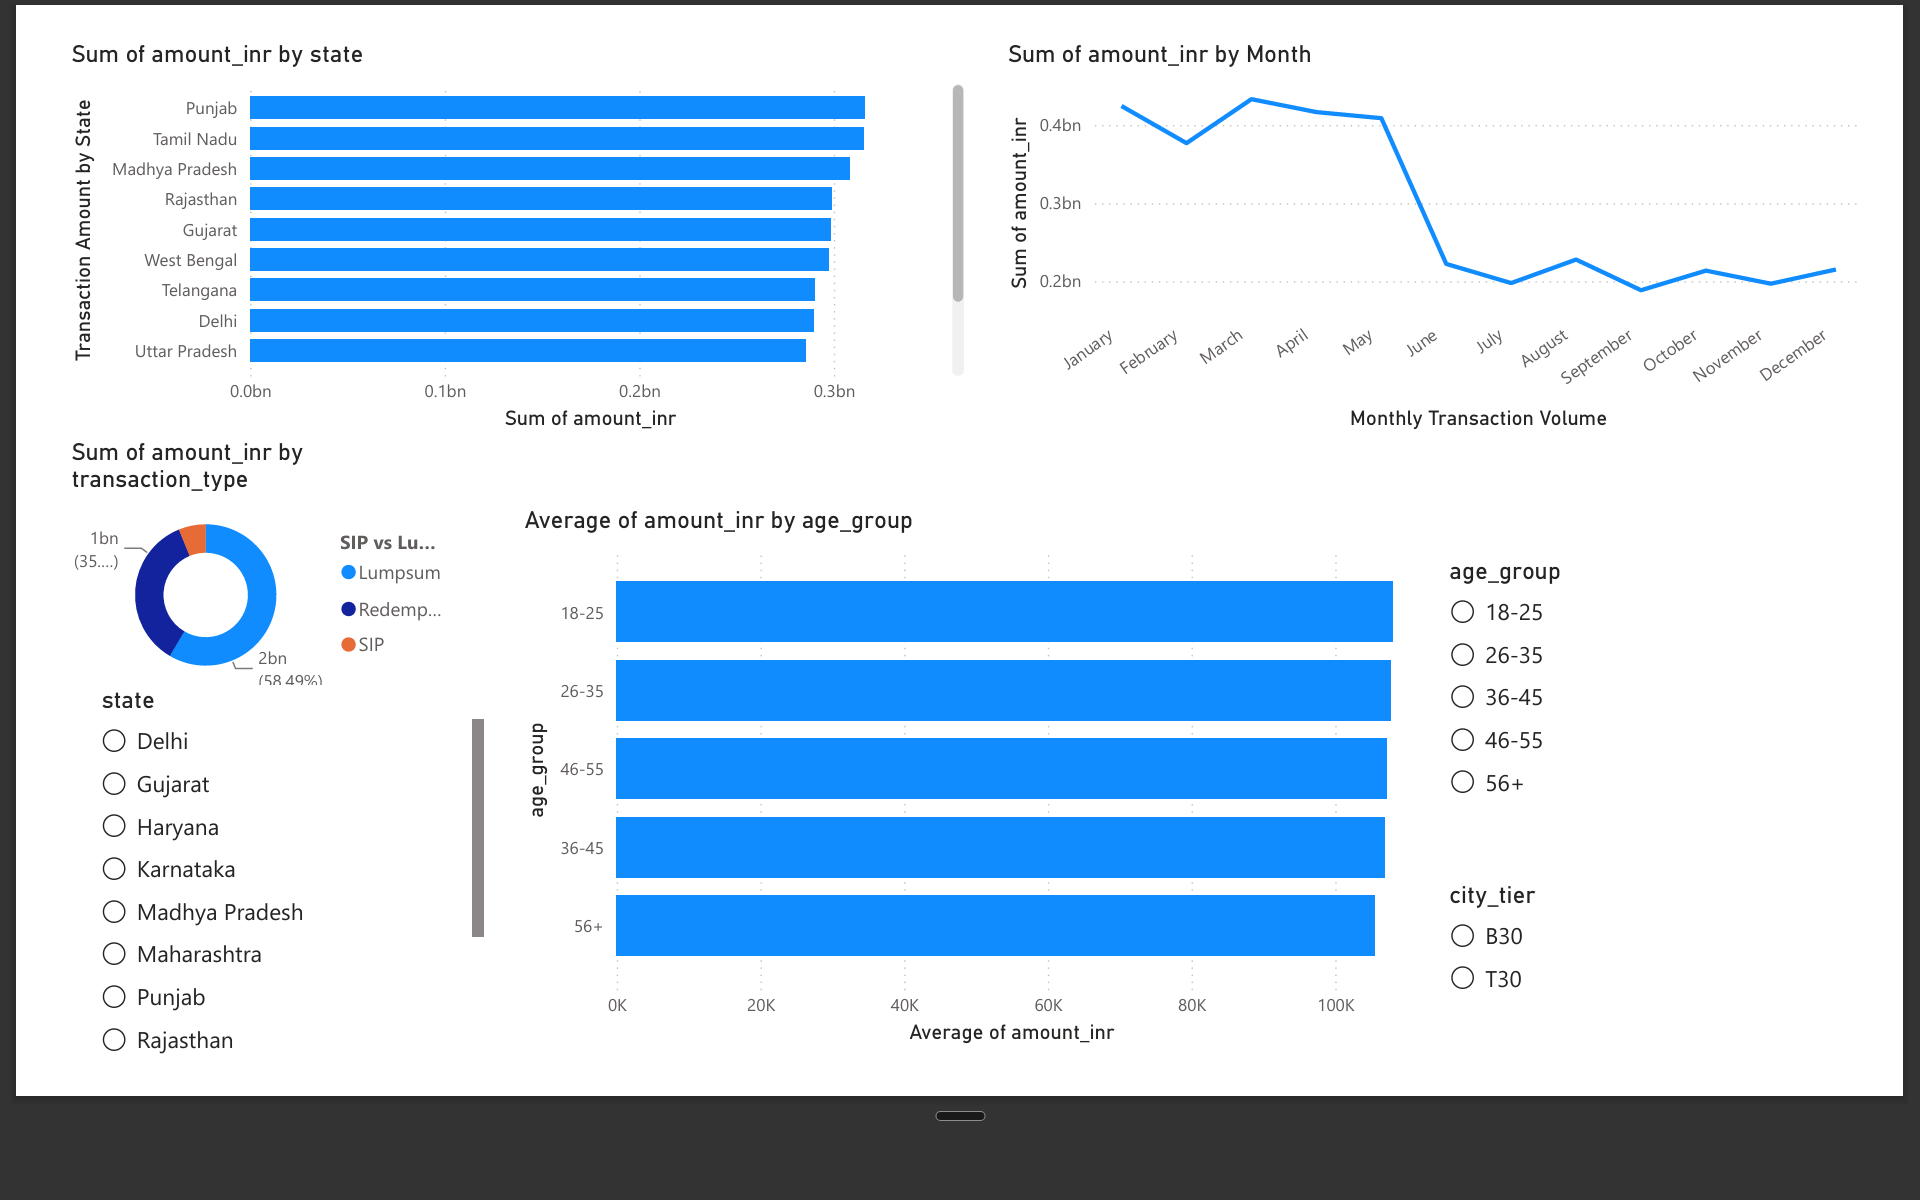

The dashboard page shown, as its layout file describes it:
{"tool":"powerbi","page":{"name":"Investor Analytics","canvas":[1280,720],"ordinal":2},"visuals":[{"type":"barChart","fields":{"Category":["08_investor_transactions.state"],"Y":["Sum(08_investor_transactions.amount_inr)"]},"box":[10.5,0,637.2,280.2],"z":0},{"type":"donutChart","fields":{"Category":["08_investor_transactions.transaction_type"],"Y":["Sum(08_investor_transactions.amount_inr)"]},"box":[10.5,280.2,279.1,184.9],"z":1},{"type":"lineChart","fields":{"Category":["08_investor_transactions.transaction_date.Variation.Date Hierarchy.Month"],"Y":["Sum(08_investor_transactions.amount_inr)"]},"box":[668.6,0,611.6,280.2],"z":3},{"type":"listSlicer","fields":{"Values":["08_investor_transactions.state"]},"box":[31.4,454.7,279.1,265.1],"z":4},{"type":"listSlicer","fields":{"Values":["08_investor_transactions.age_group"]},"box":[980.2,364,300,180.2],"z":5},{"type":"listSlicer","fields":{"Values":["08_investor_transactions.city_tier"]},"box":[980.2,591.9,300,127.9],"z":6},{"type":"clusteredBarChart","fields":{"Category":["08_investor_transactions.age_group"],"Y":["Avg(08_investor_transactions.amount_inr)"]},"box":[329.1,327.9,645.4,383.7],"z":7}]}

Visuals, with their boxes on the page's 1280x720 design canvas (x1, y1, x2, y2). These are canvas units, not pixel positions in the 1920x1200 screenshot, which may show the page scaled, cropped or inside an application window:
barChart - 08_investor_transactions.state x Sum(08_investor_transactions.amount_inr): bbox=[10, 0, 648, 280]
donutChart - 08_investor_transactions.transaction_type x Sum(08_investor_transactions.amount_inr): bbox=[10, 280, 290, 465]
lineChart - 08_investor_transactions.transaction_date.Variation.Date Hierarchy.Month x Sum(08_investor_transactions.amount_inr): bbox=[669, 0, 1280, 280]
listSlicer - 08_investor_transactions.state: bbox=[31, 455, 310, 720]
listSlicer - 08_investor_transactions.age_group: bbox=[980, 364, 1280, 544]
listSlicer - 08_investor_transactions.city_tier: bbox=[980, 592, 1280, 720]
clusteredBarChart - 08_investor_transactions.age_group x Avg(08_investor_transactions.amount_inr): bbox=[329, 328, 974, 712]
